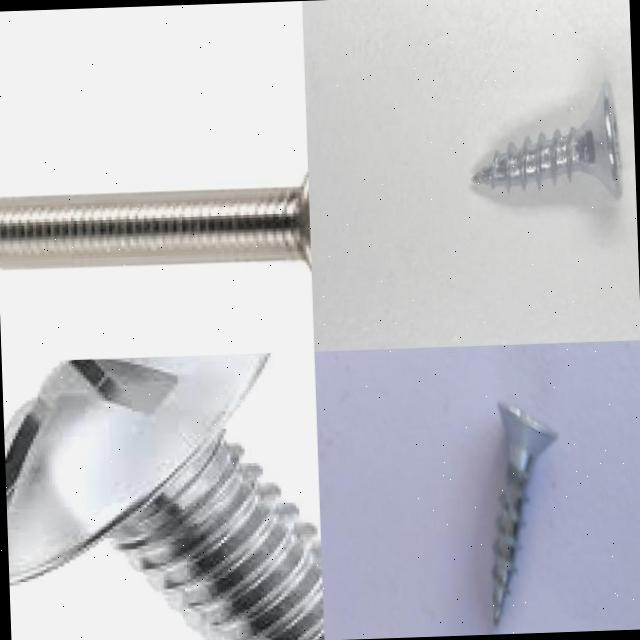Screw: (4, 353, 324, 640), (0, 172, 311, 275), (471, 80, 622, 198), (492, 401, 557, 627)
